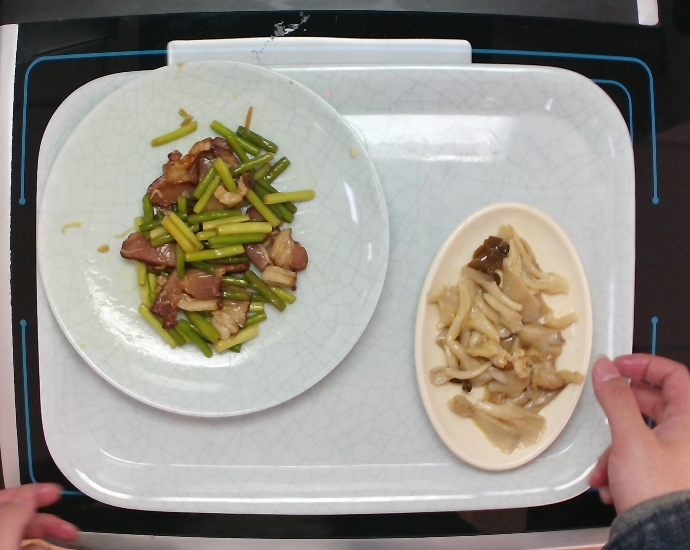JYsf-Da_Yuan_Pan: (26, 56, 395, 426)
JYsf-Tuo_Yuan_Wan: (410, 198, 601, 479)
